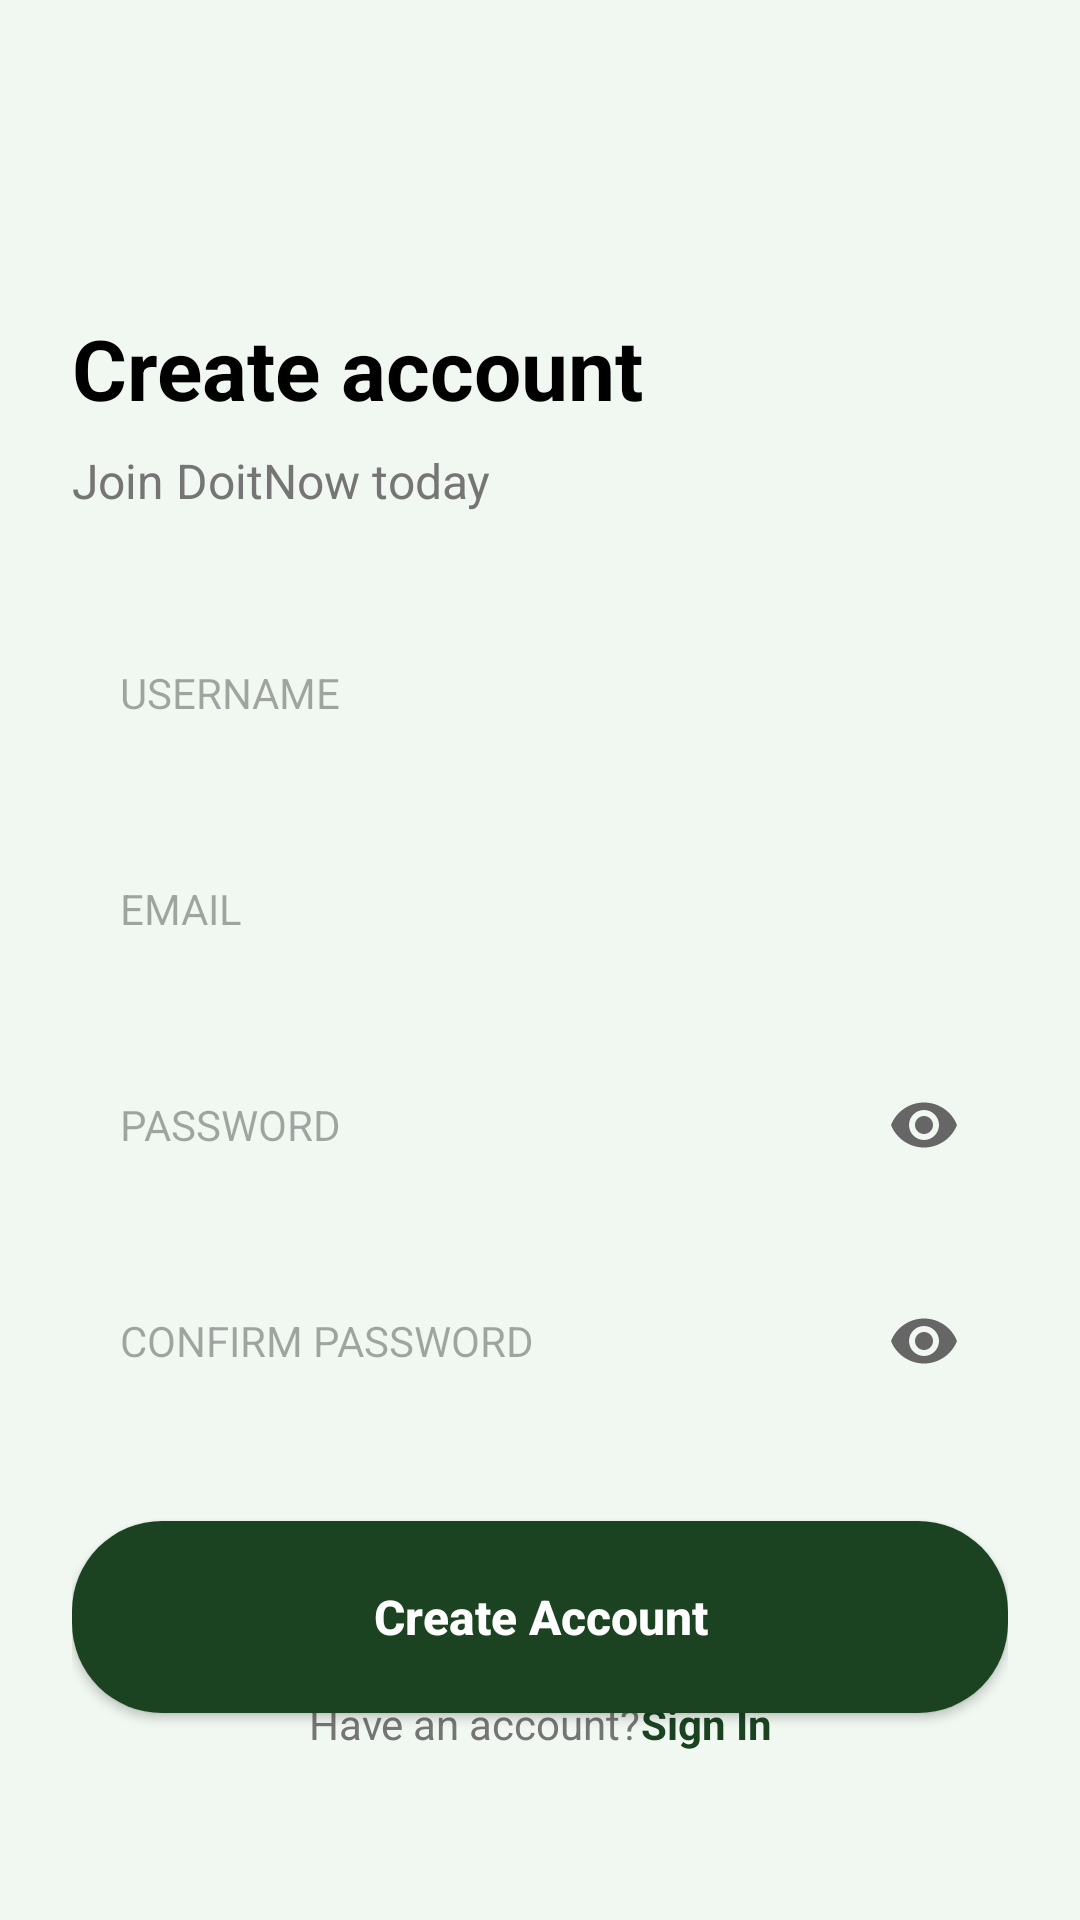

Locate icon controls on the screen. Image size 1080×1920, boxes as rect(x1, y1, x2, y2).
visibility: rect(891, 1102, 957, 1148), rect(891, 1318, 957, 1364)
